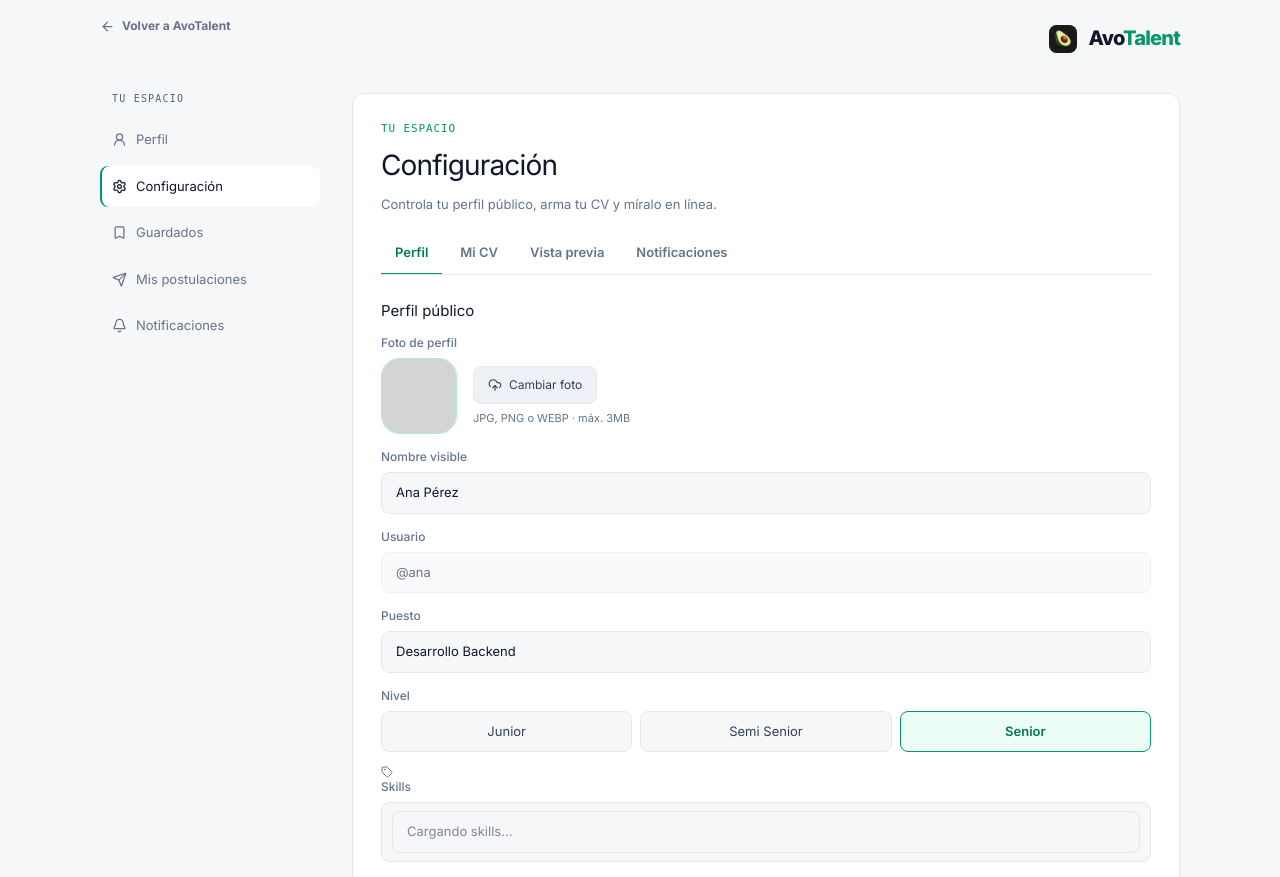
Test case: Settings tabs › shows the CV form in "Mi CV", loaded with what was saved
Check: the tab "Perfil" is shown, box [381,233,442,275]
Click the tab "Mi CV".
click(479, 254)  # box [446,233,512,275]
(page scrolled)
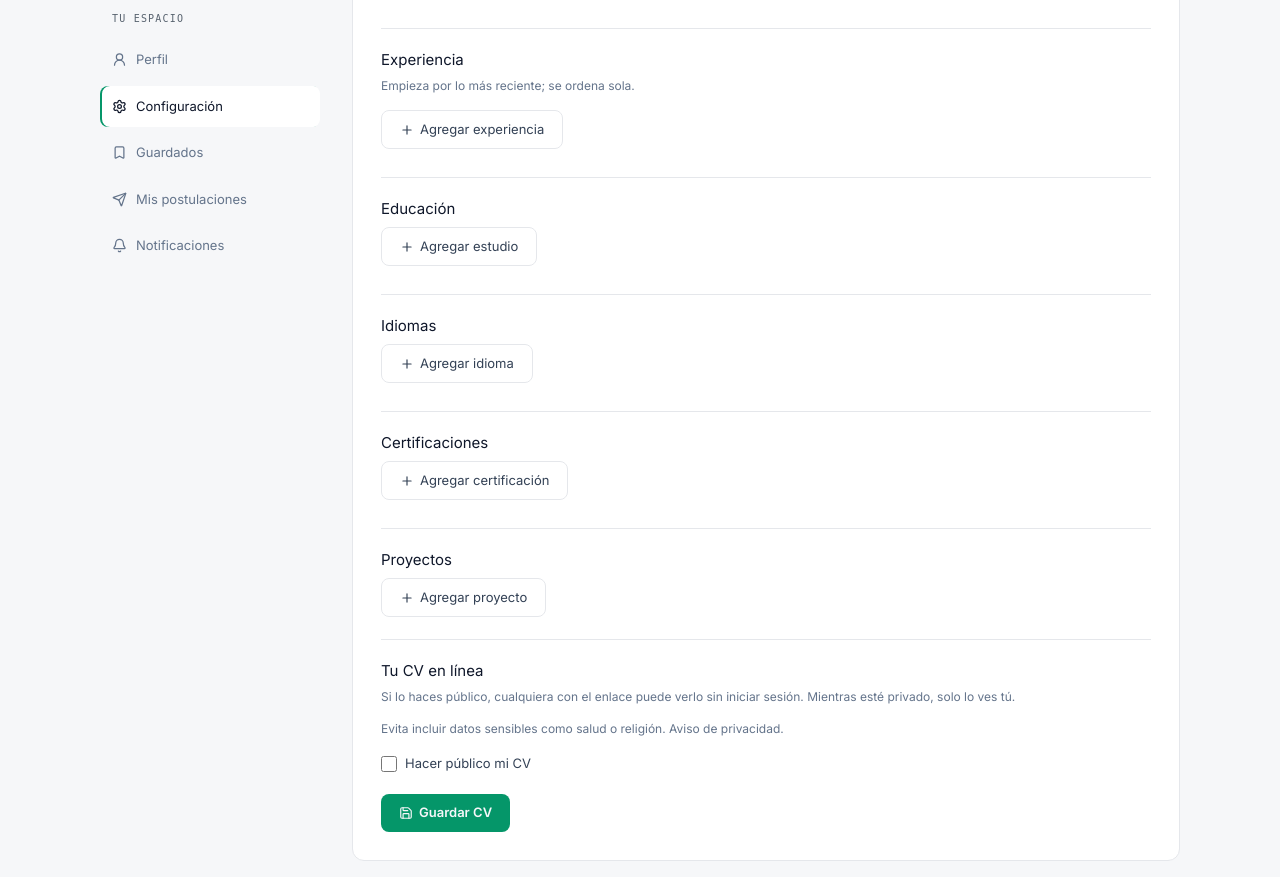
Check: the button "Guardar CV" is shown, box [381,794,510,832]
